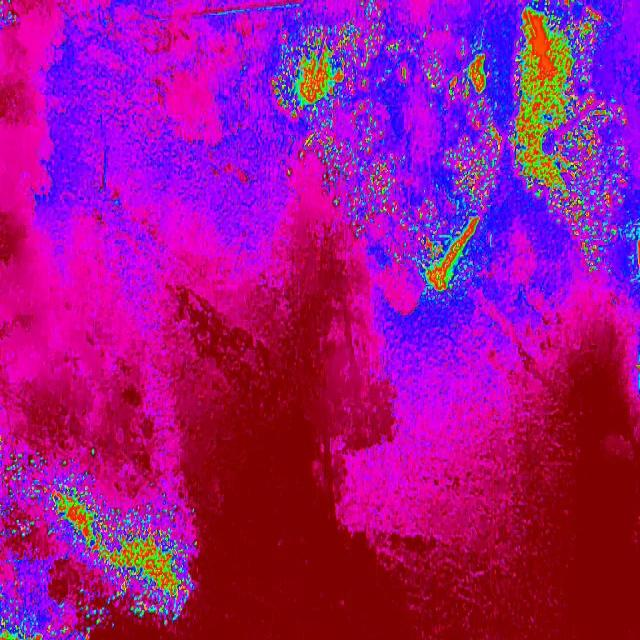fire: (266, 0, 640, 161), (1, 450, 199, 640), (323, 162, 640, 236), (386, 236, 496, 310), (571, 236, 640, 286)
